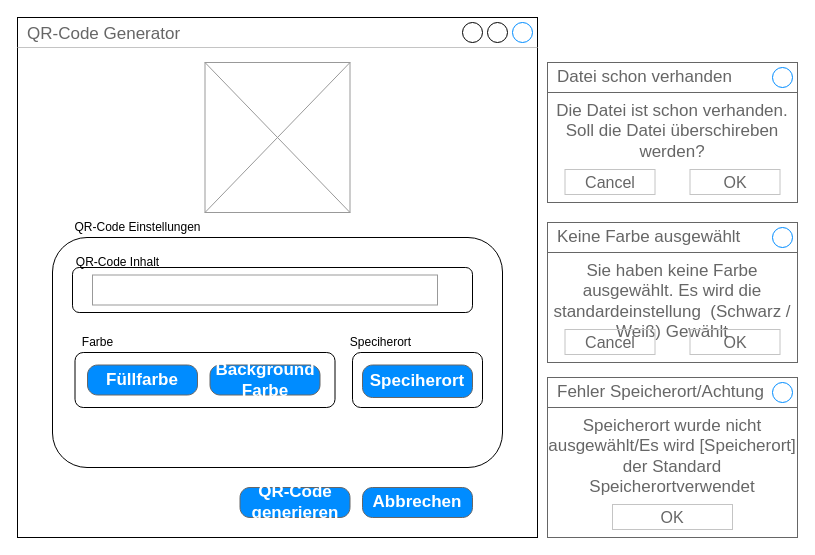
The diagram is 815 pixels wide and 555 high, and some of its shapes have lost their labels. Each missing label, with the box of its shape:
HIlfe QR Code der ggf. auchdie LiveFarbe dann sie ausgewählt zeigt: (204, 62, 350, 212)
QR-Code Text: (92, 274, 438, 305)
